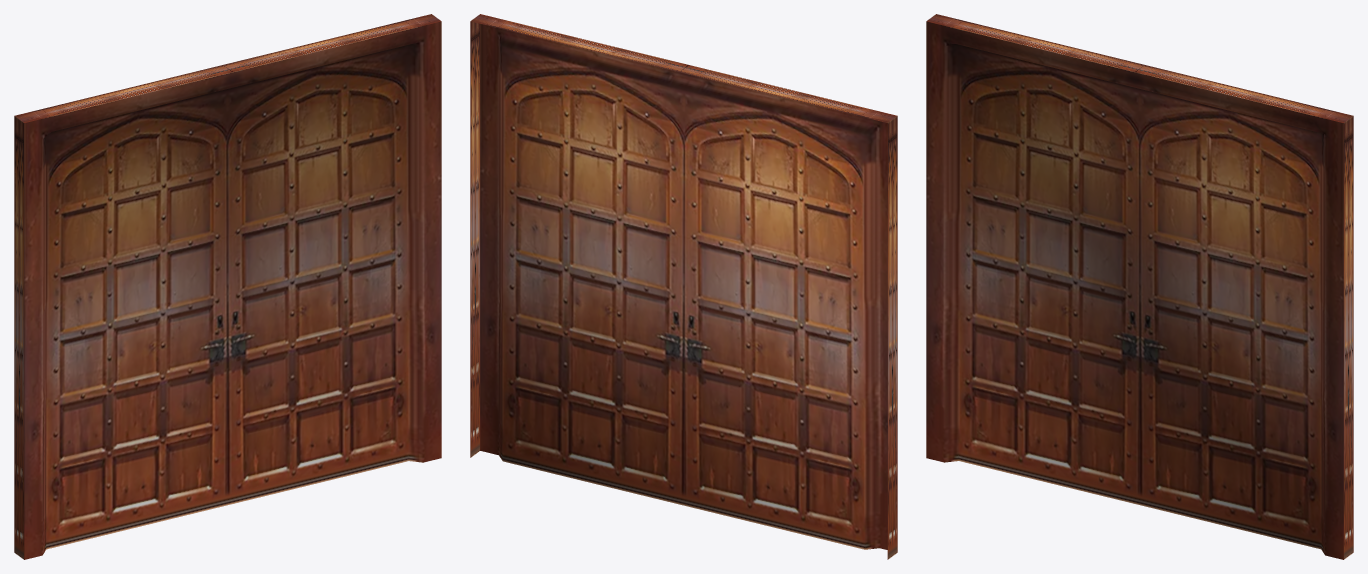
Rendered from env_wall_door.FBX.
3 views of the same model, side by side, from view 1: azimuth 30°, elevation 25°; view 2: azimuth 150°, elevation 25°; view 3: azimuth 330°, elevation 25° (orthographic).
Parts seen in each view (by area): view 1: env_wall_door; view 2: env_wall_door; view 3: env_wall_door.
Part boxes in pixels (x1=…): env_wall_door: x1=14, y1=14, x2=441, y2=559; env_wall_door: x1=470, y1=14, x2=897, y2=559; env_wall_door: x1=926, y1=14, x2=1353, y2=559.
Bounding box in the file's own units: 236 × 236 × 9.84.
1 material, 1 textured.
